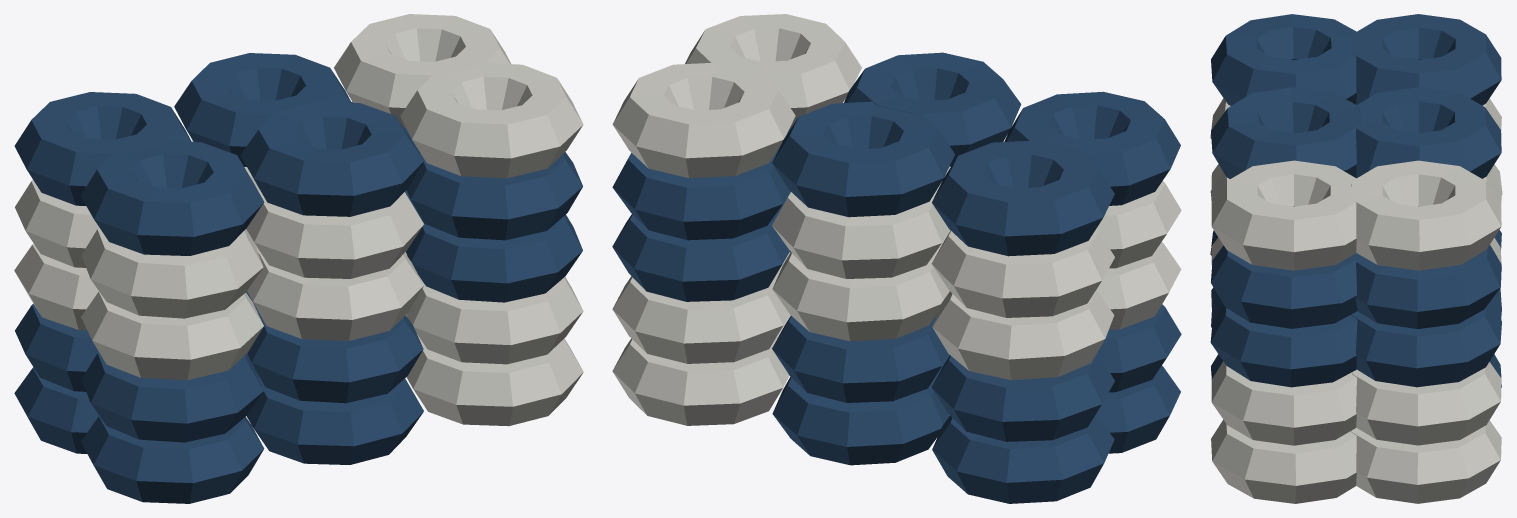
The model's file is barrier_tire_navy_white_02_double.glb.
The picture shows the model from 3 angles, left to right: view 1: azimuth 30°, elevation 25°; view 2: azimuth 150°, elevation 25°; view 3: azimuth 270°, elevation 25°; orthographic projection. The views are drawn at different scales.
Parts seen in each view (by area): view 1: barrier_tire_navy_white_02_double; view 2: barrier_tire_navy_white_02_double; view 3: barrier_tire_navy_white_02_double.
Part boxes in pixels (bbox=[...]): barrier_tire_navy_white_02_double: bbox=[14, 14, 583, 503]; barrier_tire_navy_white_02_double: bbox=[612, 14, 1181, 503]; barrier_tire_navy_white_02_double: bbox=[1210, 14, 1502, 503].
Bounding box in the file's own units: 1.86 × 1.12 × 1.04.
